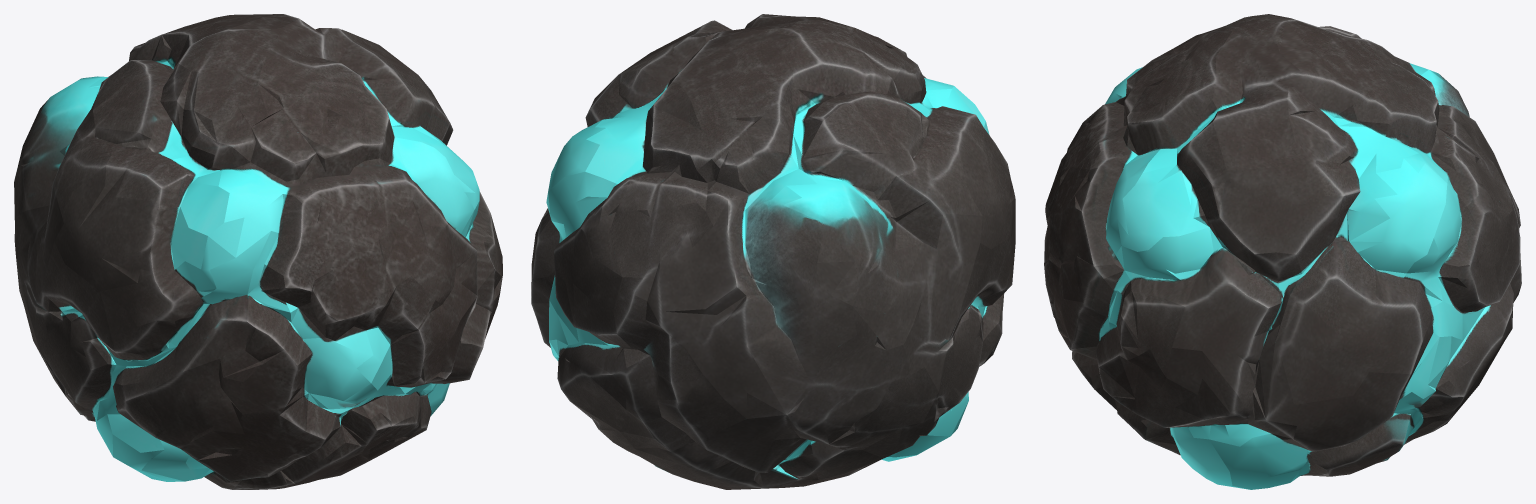
The model's file is asteroid.glb.
3 views of the same model, side by side, from view 1: azimuth 30°, elevation 25°; view 2: azimuth 150°, elevation 25°; view 3: azimuth 270°, elevation 25° (orthographic). The views are drawn at different scales.
Visible parts, largest first — view 1: output_unwrapped; view 2: output_unwrapped; view 3: output_unwrapped.
Boxes of the visible parts, box(x1,y1,x2,y2) form: output_unwrapped: box(14, 14, 502, 489); output_unwrapped: box(531, 14, 1015, 489); output_unwrapped: box(1044, 14, 1521, 489).
Size of the model in its own units: 1.79 by 1.85 by 1.9.
Materials: 1 (1 with a texture image).
